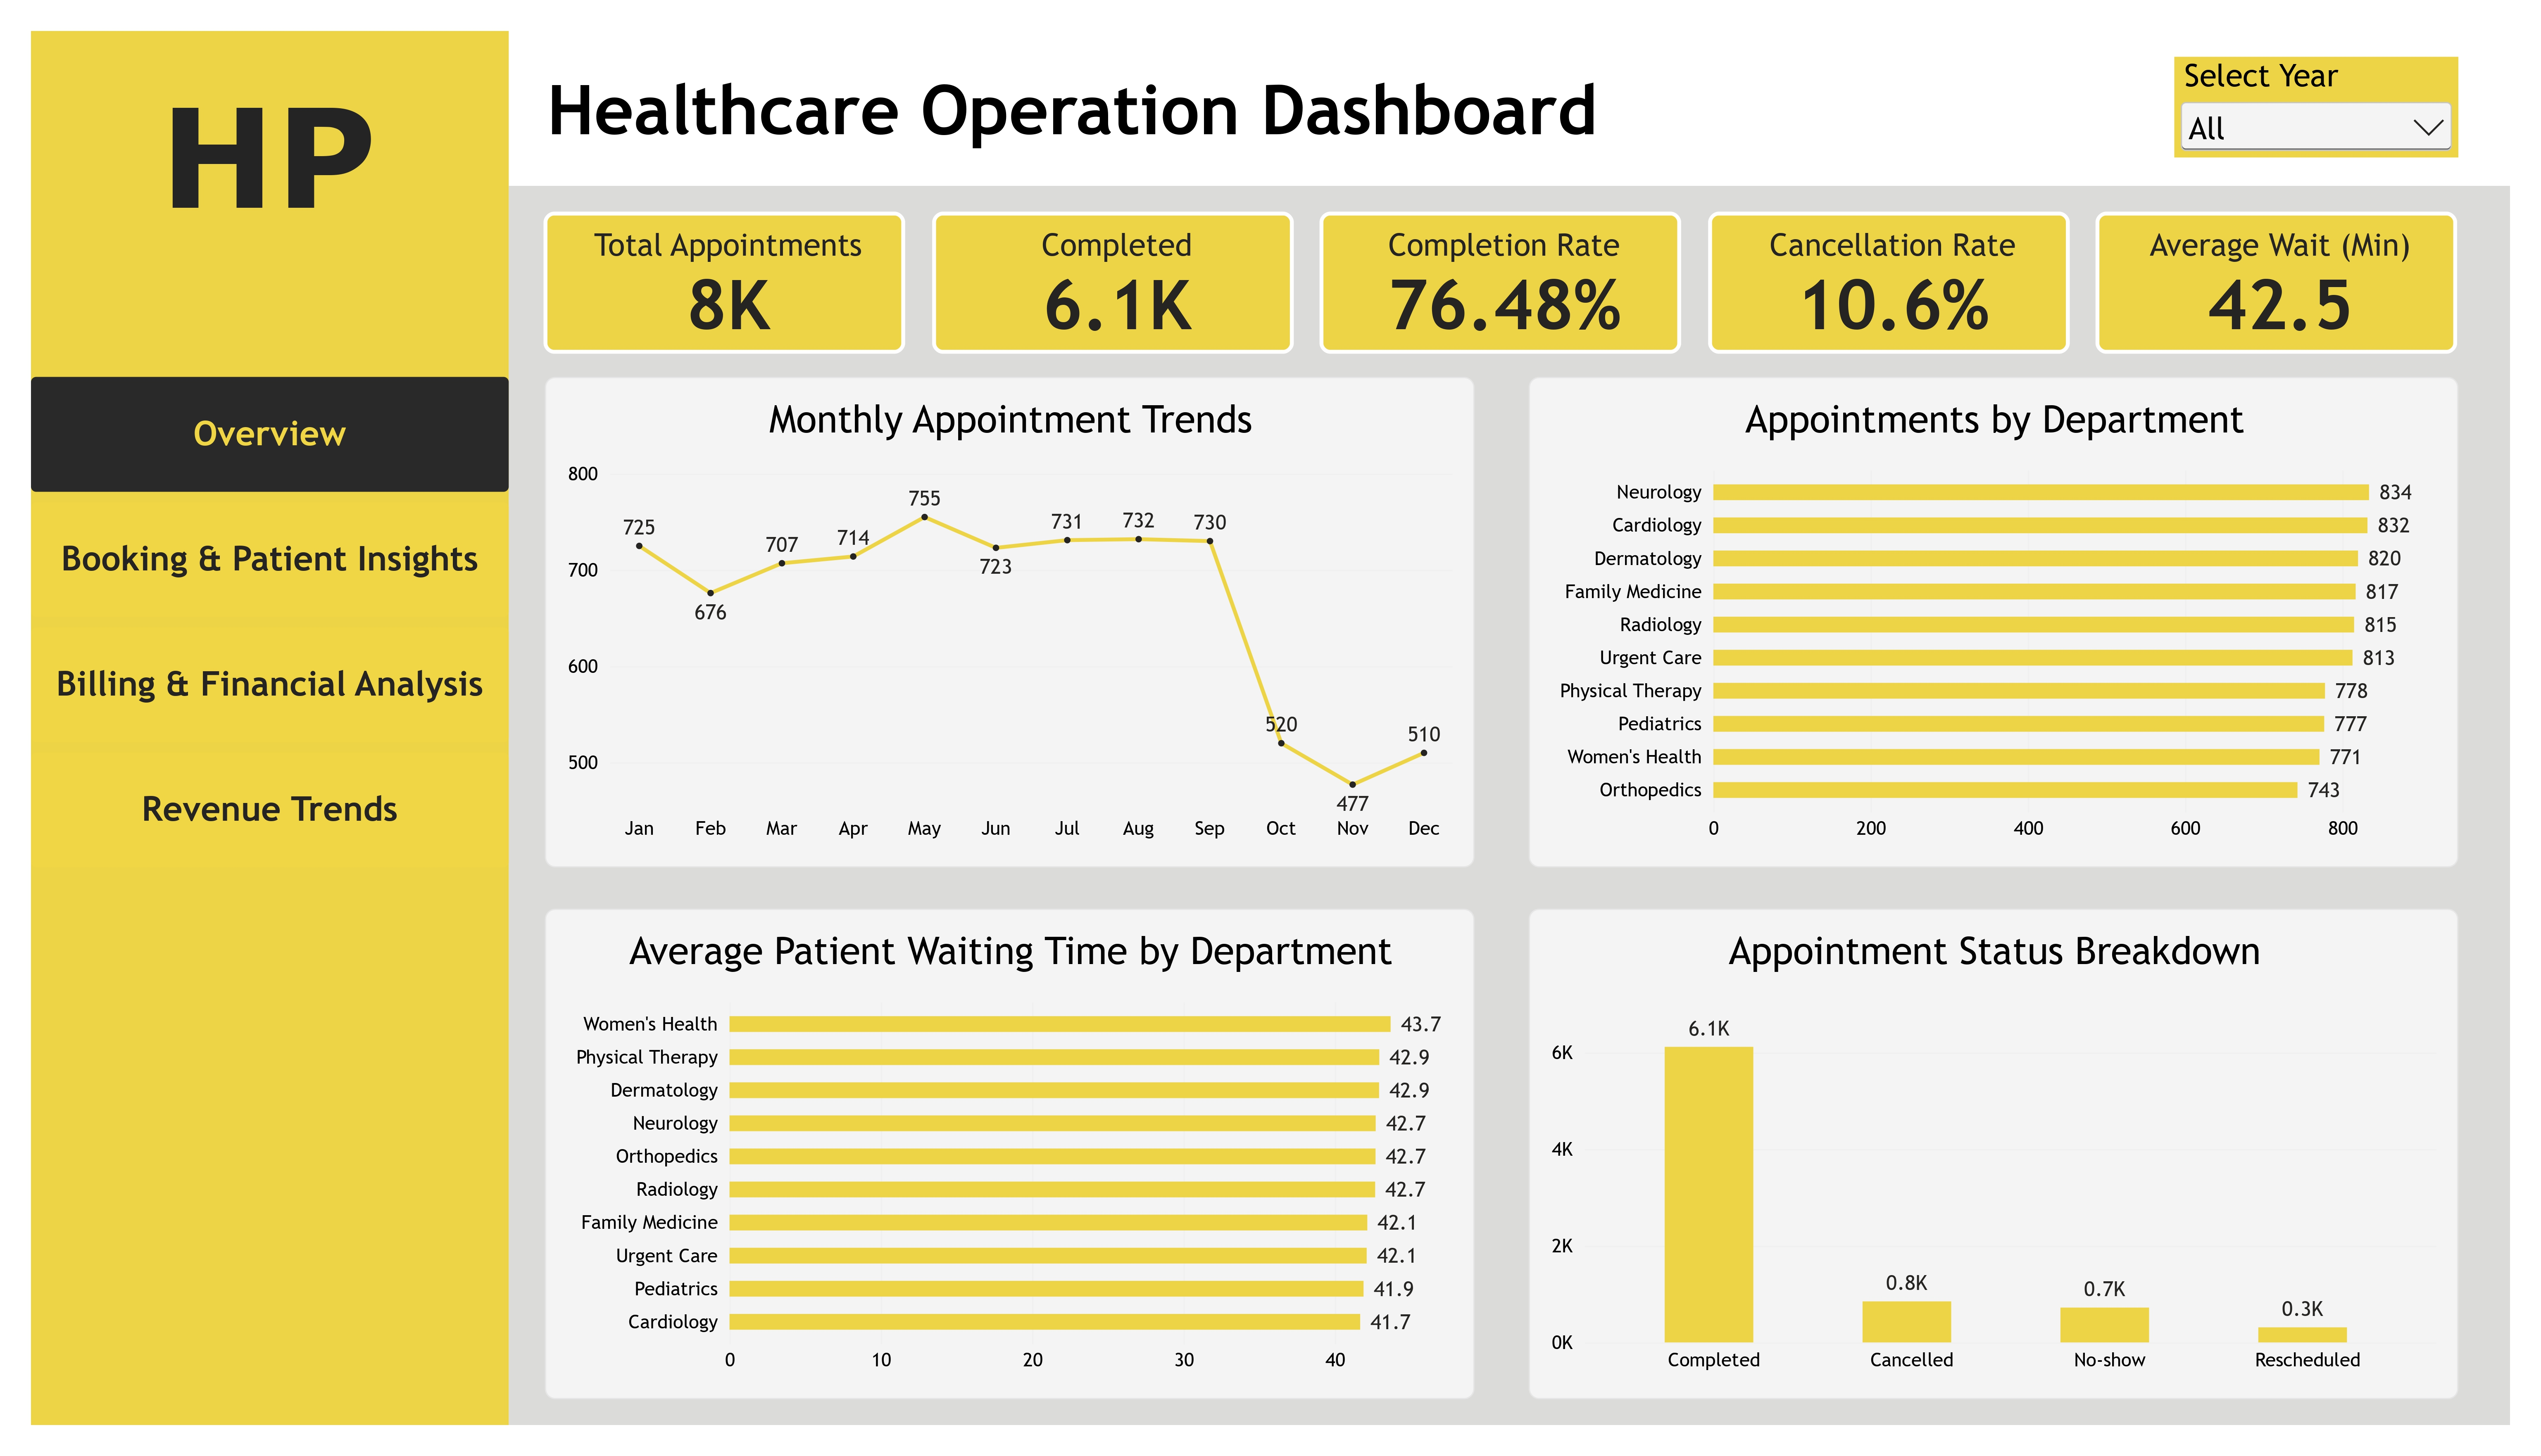

The dashboard page shown, as its layout file describes it:
{"tool":"powerbi","page":{"name":"Overview","canvas":[1920,1080],"ordinal":0},"visuals":[{"type":"shape","box":[369.8,0,1550.8,1080.8],"z":0},{"type":"lineChart","title":"Monthly Appointment Trends","fields":{"Category":["healthcare_ops appointments.Month Short"],"Y":["healthcare_ops appointments.Total Appointments"]},"box":[397.5,267.5,720,380],"z":1000},{"type":"clusteredColumnChart","title":"Appointment Status Breakdown","fields":{"Category":["healthcare_ops appointments.appointment_status"],"Y":["healthcare_ops appointments.Total Appointments"]},"box":[1159.6,680,720,380],"z":2000},{"type":"shape","box":[370,0,1550,120],"z":3000},{"type":"shape","box":[0,0,370,1080],"z":4000},{"type":"textbox","box":[370,30,872.5,62.5],"z":5000},{"type":"textbox","box":[100,30,175,132.5],"z":6000},{"type":"cardVisual","fields":{"Data":["healthcare_ops appointments.Total Appointments"]},"box":[396.9,140,280,110],"z":7000},{"type":"cardVisual","fields":{"Data":["healthcare_ops appointments.Completed Appointments Display"]},"box":[697.5,140,280,110],"z":8000},{"type":"cardVisual","fields":{"Data":["healthcare_ops appointments.Appointment Completion Rate"]},"box":[998.1,140,280,110],"z":9000},{"type":"cardVisual","fields":{"Data":["healthcare_ops appointments.Appointment Cancellation Rate"]},"box":[1298.8,140,280,110],"z":10000},{"type":"cardVisual","fields":{"Data":["healthcare_ops appointments.Average Waiting Time"]},"box":[1599.4,140,280,110],"z":11000},{"type":"slicer","fields":{"Values":["healthcare_ops appointments.Appointment Year"]},"box":[1660,20,220,77.5],"z":12000},{"type":"clusteredBarChart","title":"Appointments by Department","fields":{"Category":["healthcare_ops departments.department_name"],"Y":["healthcare_ops appointments.Total Appointments"]},"box":[1160,267.5,720,380],"z":13000},{"type":"clusteredBarChart","title":"Average Patient Waiting Time by Department","fields":{"Category":["healthcare_ops departments.department_name"],"Y":["healthcare_ops appointments.Average Waiting Time"]},"box":[398.4,680,720,380],"z":14000},{"type":"pageNavigator","box":[0,267.5,370,380],"z":15000}]}

Visuals, with their boxes on the page's 1920x1080 design canvas (x1, y1, x2, y2). These are canvas units, not pixel positions in the 2541x1456 screenshot, which may show the page scaled, cropped or inside an application window:
shape: 370/0/1921/1081
"Monthly Appointment Trends" lineChart: 398/268/1118/648
"Appointment Status Breakdown" clusteredColumnChart: 1160/680/1880/1060
shape: 370/0/1920/120
shape: 0/0/370/1080
textbox: 370/30/1242/92
textbox: 100/30/275/162
cardVisual - healthcare_ops appointments.Total Appointments: 397/140/677/250
cardVisual - healthcare_ops appointments.Completed Appointments Display: 698/140/978/250
cardVisual - healthcare_ops appointments.Appointment Completion Rate: 998/140/1278/250
cardVisual - healthcare_ops appointments.Appointment Cancellation Rate: 1299/140/1579/250
cardVisual - healthcare_ops appointments.Average Waiting Time: 1599/140/1879/250
slicer - healthcare_ops appointments.Appointment Year: 1660/20/1880/98
"Appointments by Department" clusteredBarChart: 1160/268/1880/648
"Average Patient Waiting Time by Department" clusteredBarChart: 398/680/1118/1060
pageNavigator: 0/268/370/648
